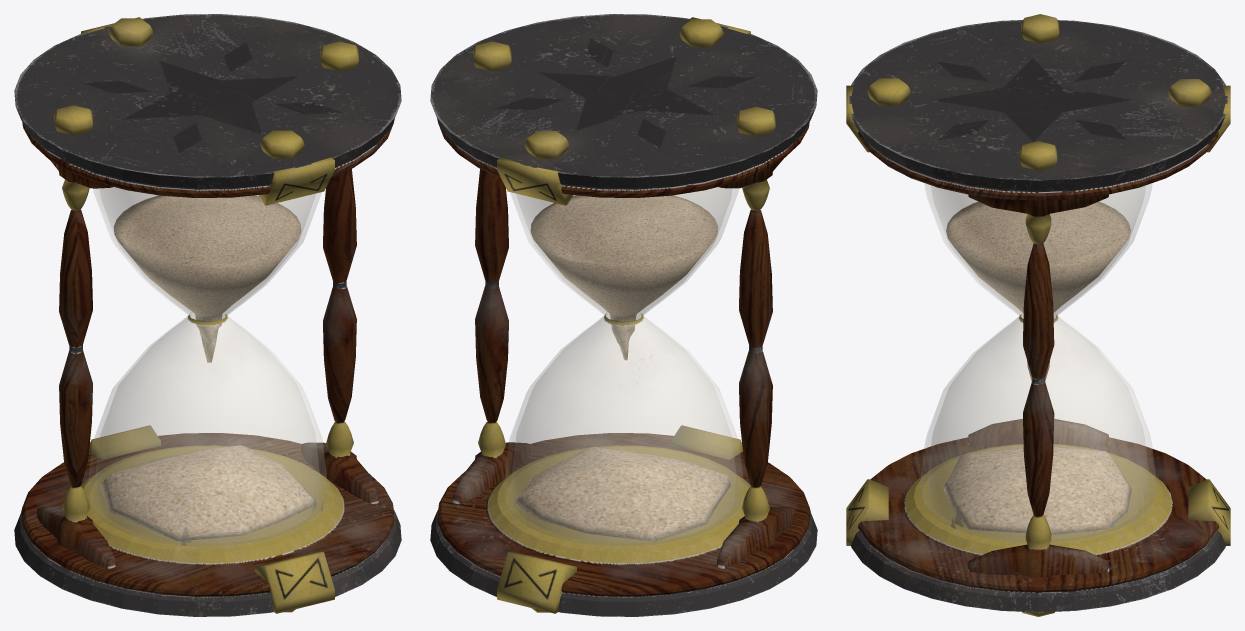
File: hourglass.glb
The picture shows the model from 3 angles, left to right: view 1: azimuth 30°, elevation 25°; view 2: azimuth 150°, elevation 25°; view 3: azimuth 270°, elevation 25°; orthographic projection.
Visible parts, largest first — view 1: Base_low, GlassOutside_low, GlassInside_low, Beam_low, SandTop_low, SandBottom_low, Sign_low, Feet_low; view 2: Base_low, GlassOutside_low, GlassInside_low, Beam_low, SandTop_low, SandBottom_low, Sign_low, Feet_low; view 3: Base_low, GlassOutside_low, GlassInside_low, Beam_low, SandBottom_low, SandTop_low, Sign_low, Feet_low.
Part boxes in pixels (x1,y1,x2,y2): Base_low: (14,14,401,616); GlassOutside_low: (88,187,327,546); GlassInside_low: (96,187,319,542); Beam_low: (36,160,378,568); SandTop_low: (114,195,301,362); SandBottom_low: (99,445,316,541); Sign_low: (81,17,334,613); Feet_low: (54,18,358,612); Base_low: (430,14,817,616); GlassOutside_low: (504,187,743,546); GlassInside_low: (512,187,735,542); Beam_low: (452,159,794,568); SandTop_low: (530,195,717,360); SandBottom_low: (515,447,730,541); Sign_low: (497,17,750,613); Feet_low: (473,19,775,612); Base_low: (849,20,1227,612); GlassOutside_low: (921,183,1155,542); GlassInside_low: (928,186,1148,538); Beam_low: (967,194,1109,577); SandBottom_low: (943,446,1131,534); SandTop_low: (946,201,1130,312); Sign_low: (846,85,1230,545); Feet_low: (867,14,1211,616).
Size of the model in its own units: 18.23 by 24.26 by 18.35.
1 material, 1 textured.
